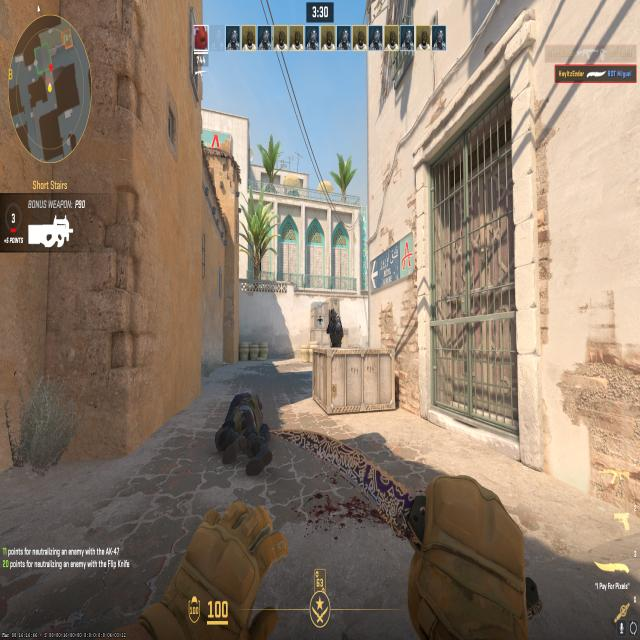ct: (325, 301, 345, 349)
